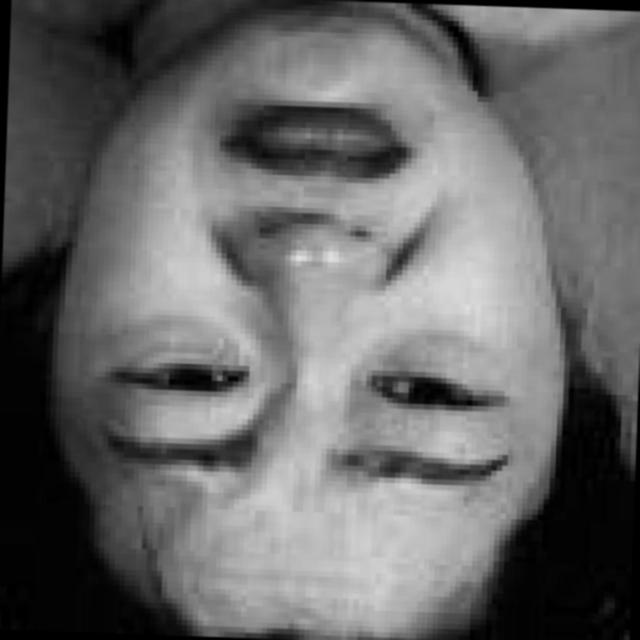disgust: (58, 10, 562, 607)
